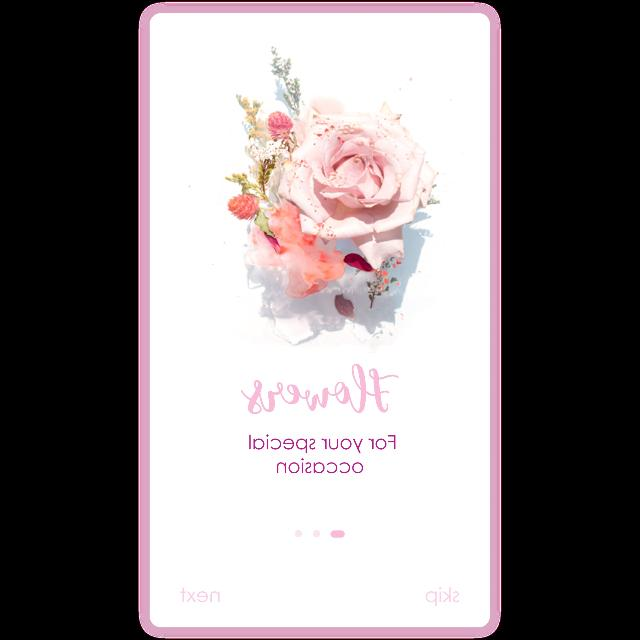image: (224, 46, 442, 344), (240, 364, 398, 414)
pageindicator: (294, 530, 344, 538)
text: (248, 434, 396, 474), (425, 588, 459, 606), (180, 588, 218, 602)
